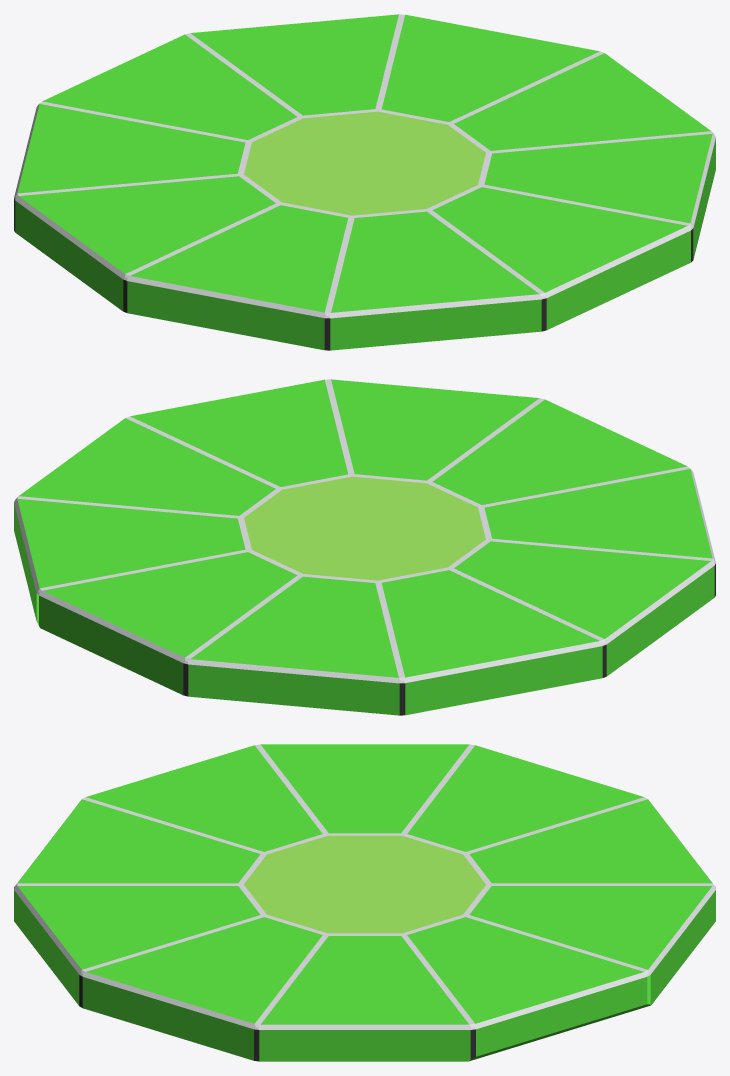
File: Small Platform.fbx
3 views of the same model, one above another, from view 1: azimuth 30°, elevation 25°; view 2: azimuth 150°, elevation 25°; view 3: azimuth 270°, elevation 25° (orthographic). The views are drawn at different scales.
Visible parts, largest first — view 1: Small Platfatform; view 2: Small Platfatform; view 3: Small Platfatform.
Part boxes in pixels (box(x1,y1,x2,y2)): Small Platfatform: box(14, 14, 715, 350); Small Platfatform: box(14, 379, 715, 715); Small Platfatform: box(14, 744, 715, 1061).
Size of the model in its own units: 2471 by 145 by 2591.
